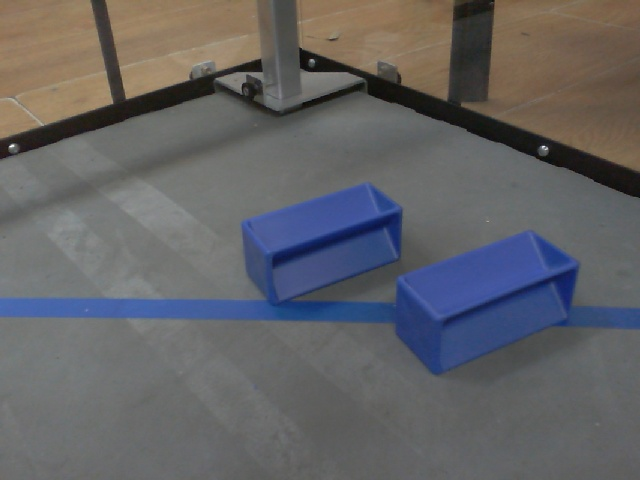BlueSample: (394, 228, 582, 377), (239, 180, 405, 307)
